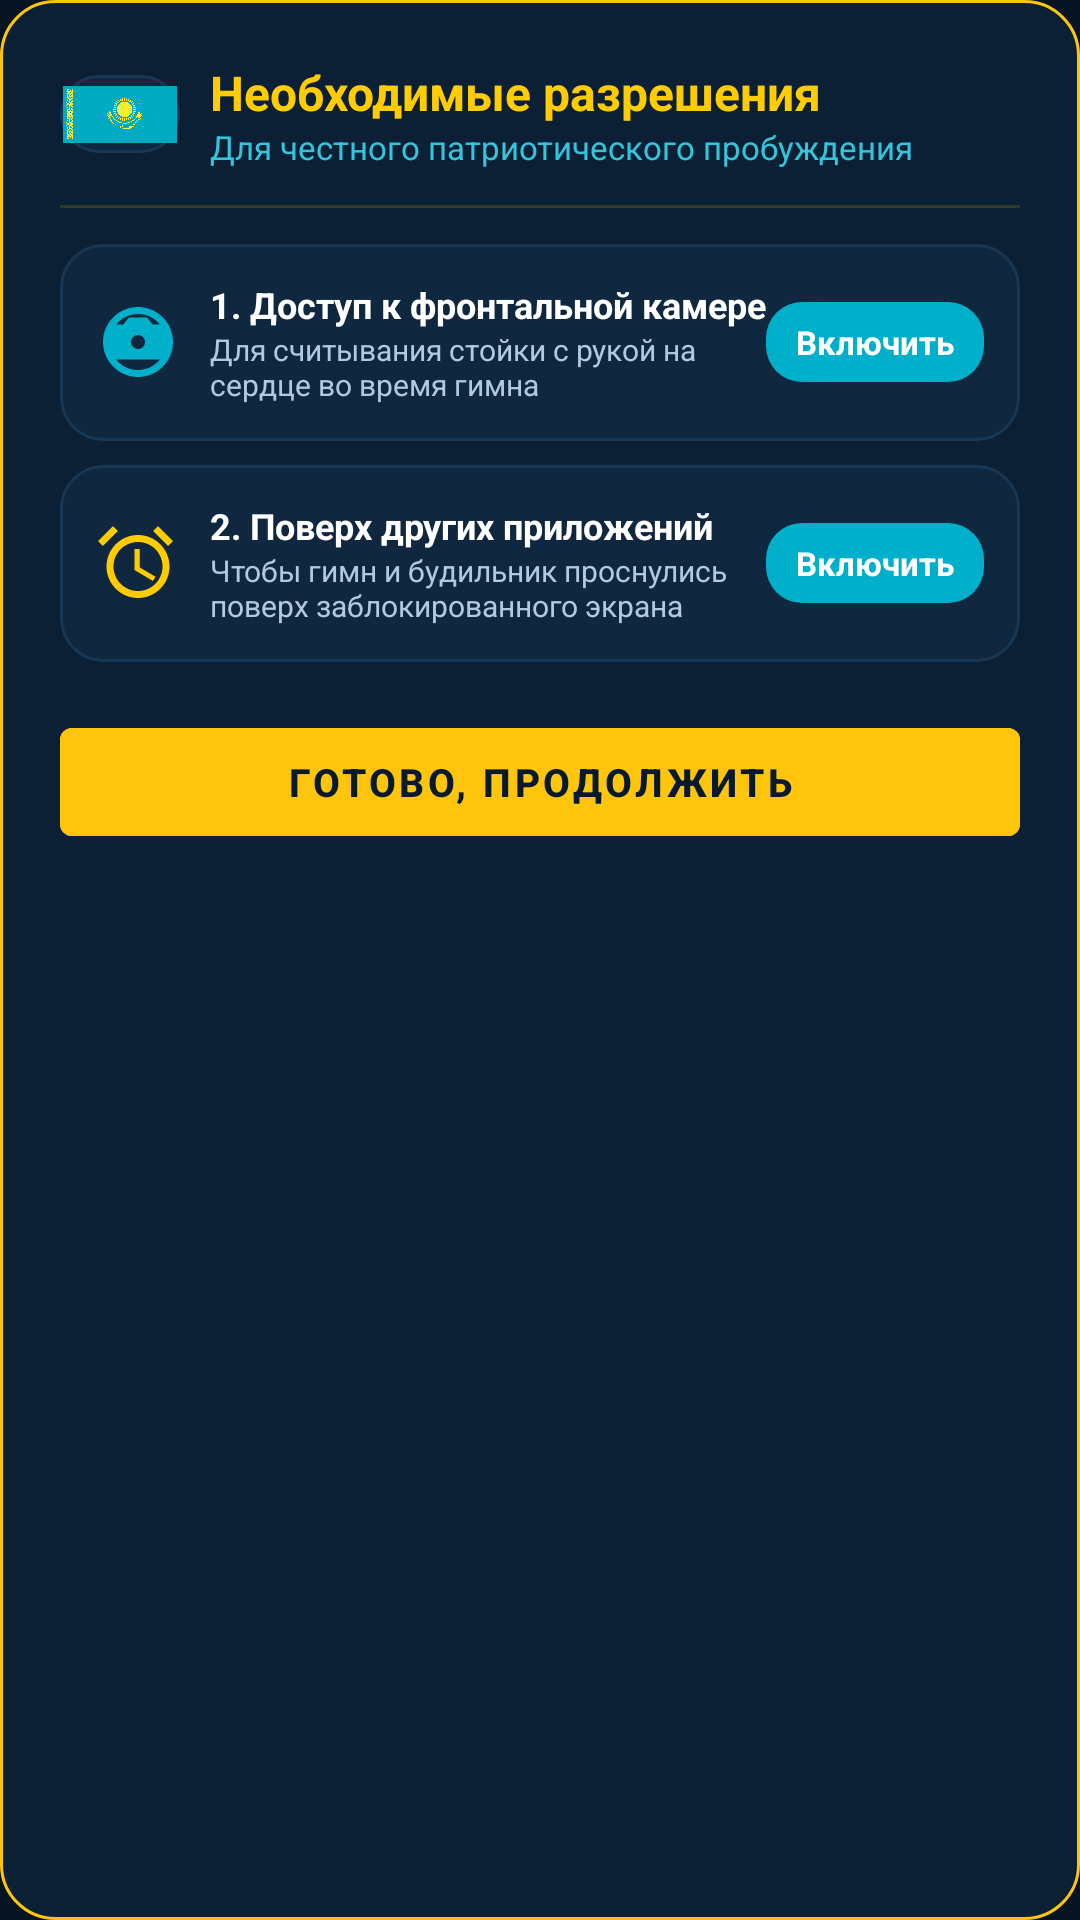

Icons on this 1080×1920 Android screen, each with the point to tap as (x=x, y=y):
Camera: (x=138, y=342)
Flag of Kazakhstan: (x=120, y=114)
